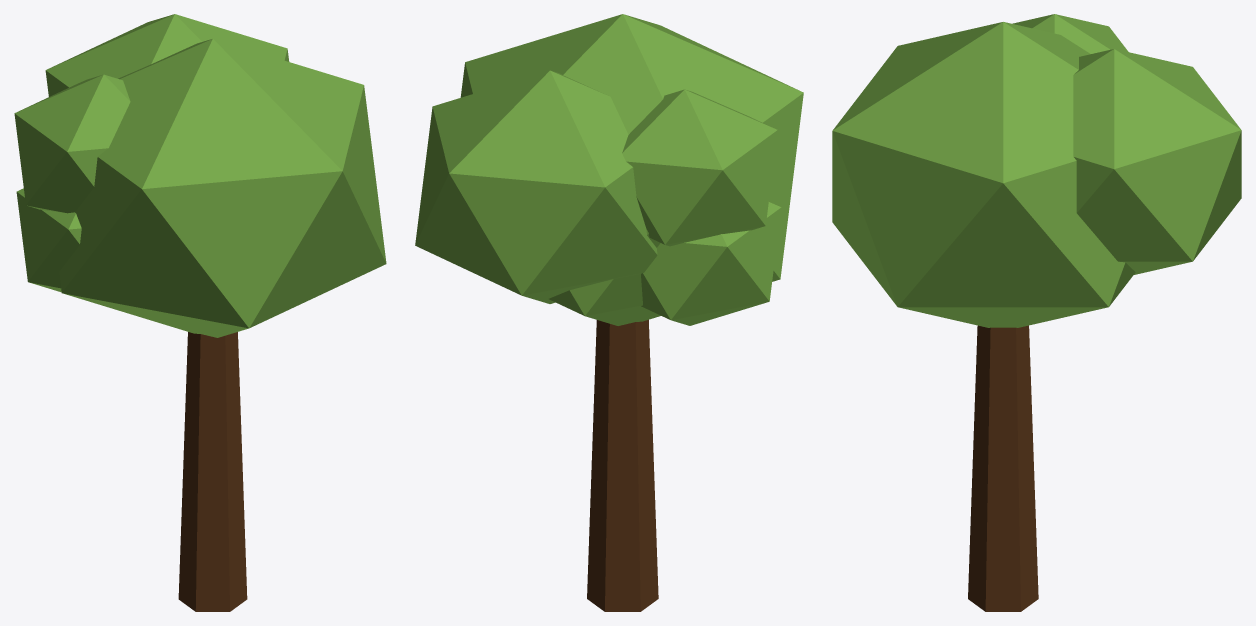
The model's file is tree2.glb.
The picture shows the model from 3 angles, left to right: view 1: azimuth 30°, elevation 25°; view 2: azimuth 150°, elevation 25°; view 3: azimuth 270°, elevation 25°; orthographic projection. The views are drawn at different scales.
Parts seen in each view (by area): view 1: tree2; view 2: tree2; view 3: tree2.
Part boxes in pixels (bbox=[...]): tree2: bbox=[14, 14, 386, 611]; tree2: bbox=[415, 14, 803, 611]; tree2: bbox=[832, 14, 1241, 611].
Bounding box in the file's own units: 2.32 × 3.96 × 2.55.
